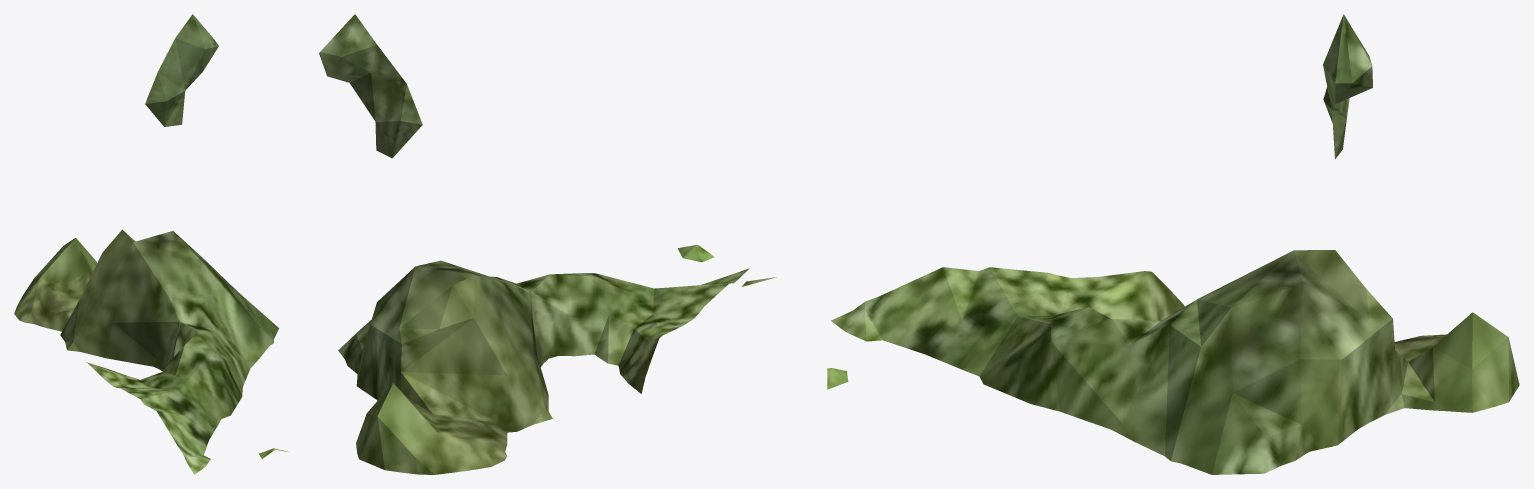
The picture shows the model from 3 angles, left to right: view 1: azimuth 30°, elevation 25°; view 2: azimuth 150°, elevation 25°; view 3: azimuth 270°, elevation 25°; orthographic projection. The views are drawn at different scales.
Size of the model in its own units: 0.822 by 1.07 by 1.56.
1 material, 1 textured.
